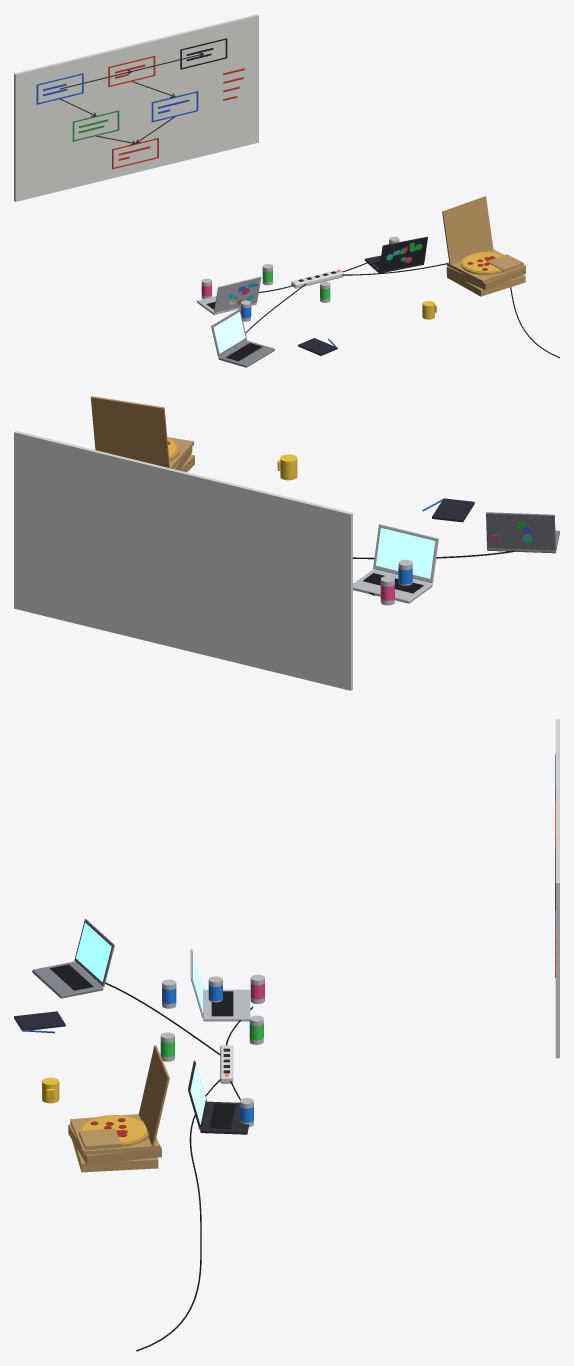
The model's file is decor.glb.
3 views of the same model, one above another, from view 1: azimuth 30°, elevation 25°; view 2: azimuth 150°, elevation 25°; view 3: azimuth 270°, elevation 25° (orthographic). The views are drawn at different scales.
Parts seen in each view (by area): view 1: Decor; view 2: Decor; view 3: Decor.
Boxes of the visible parts, x1,y1,x2,y2 form: Decor: [14, 14, 559, 367]; Decor: [14, 396, 559, 690]; Decor: [14, 719, 559, 1351].
Size of the model in its own units: 11.06 by 7.21 by 9.68.
